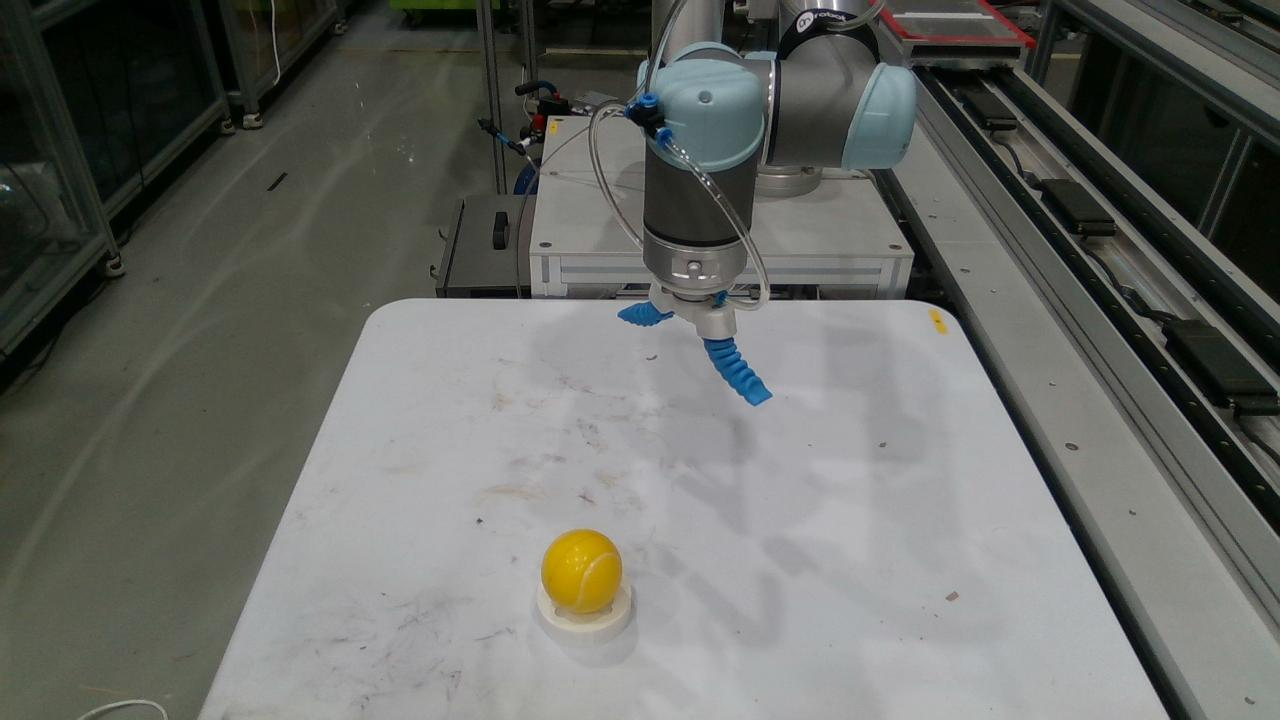UR5: (546, 0, 918, 336)
gripper_left: (618, 301, 673, 326)
gripper_right: (708, 339, 764, 404)
target: (535, 584, 632, 648), (544, 530, 618, 611)
